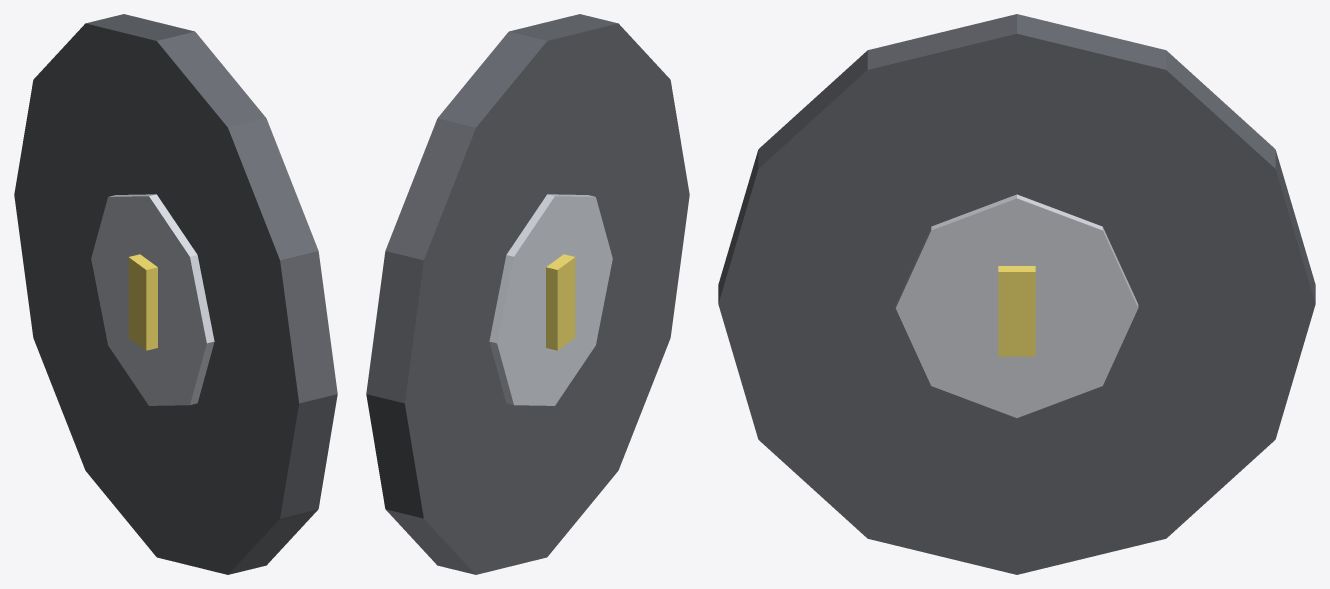
The model's file is velodrome-and-track-cycling-disc-track-wheel-49b6529a__38020.glb.
3 renders of one model, left to right at view 1: azimuth 30°, elevation 25°; view 2: azimuth 150°, elevation 25°; view 3: azimuth 270°, elevation 25°, orthographic. The views are drawn at different scales.
Visible parts, largest first — view 1: disc-track-wheel-charcoal, disc-track-wheel-steel, disc-track-wheel-canary; view 2: disc-track-wheel-charcoal, disc-track-wheel-steel, disc-track-wheel-canary; view 3: disc-track-wheel-charcoal, disc-track-wheel-steel, disc-track-wheel-canary.
Part boxes in pixels (bbox=[...]): disc-track-wheel-charcoal: bbox=[14, 14, 337, 574]; disc-track-wheel-steel: bbox=[91, 194, 214, 405]; disc-track-wheel-canary: bbox=[128, 254, 157, 350]; disc-track-wheel-charcoal: bbox=[366, 14, 689, 574]; disc-track-wheel-steel: bbox=[489, 194, 612, 405]; disc-track-wheel-canary: bbox=[546, 254, 575, 350]; disc-track-wheel-charcoal: bbox=[718, 14, 1315, 574]; disc-track-wheel-steel: bbox=[895, 194, 1138, 417]; disc-track-wheel-canary: bbox=[998, 266, 1035, 356].
Bounding box in the file's own units: 0.1 × 0.64 × 0.64.
